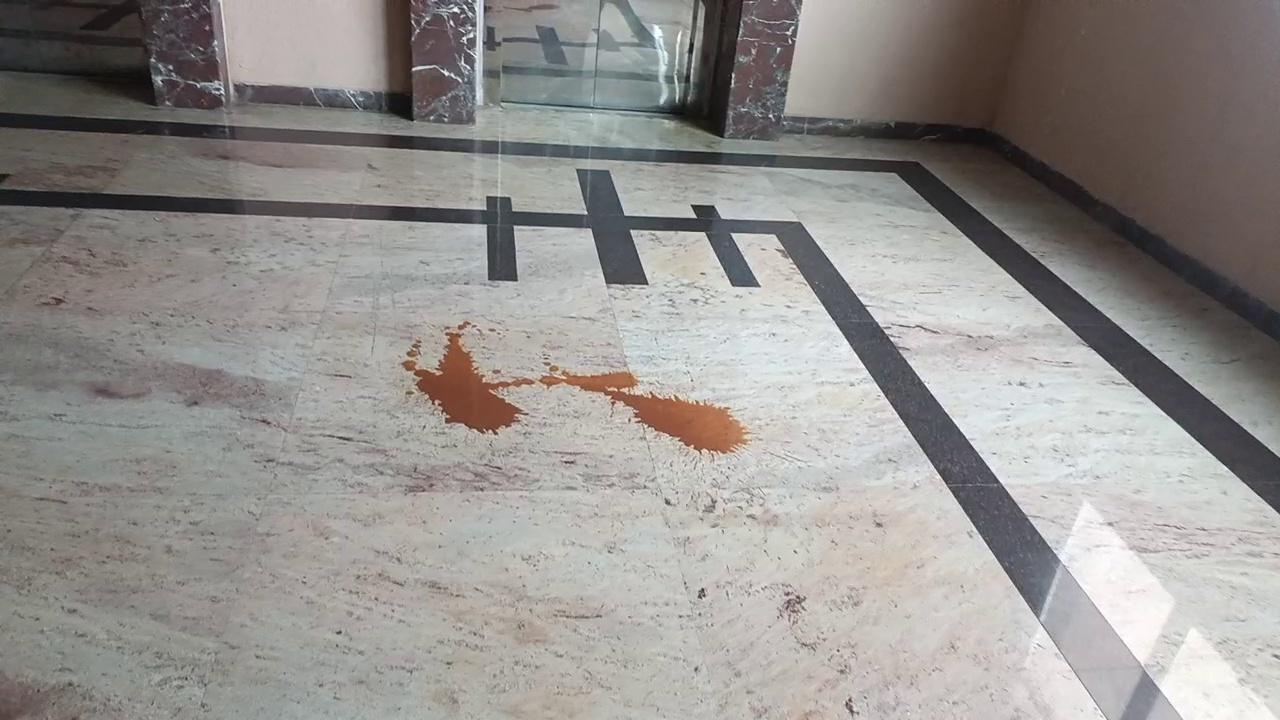dirty_floor: (403, 314, 751, 461)
